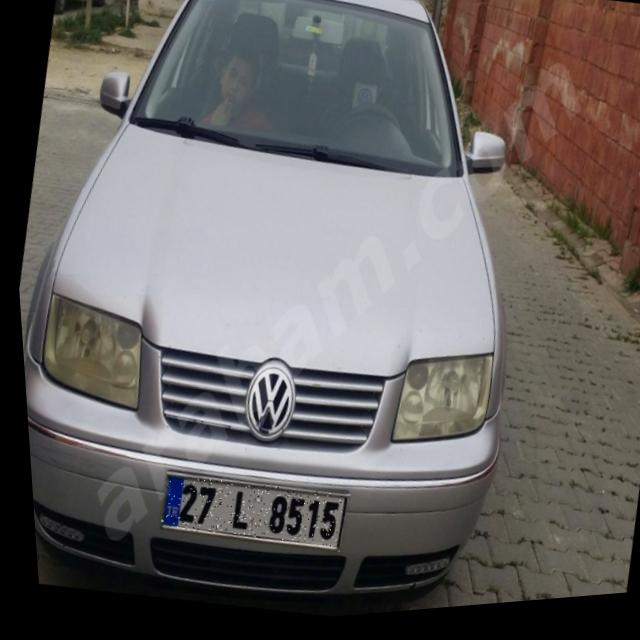license_plate: (150, 466, 342, 564)
